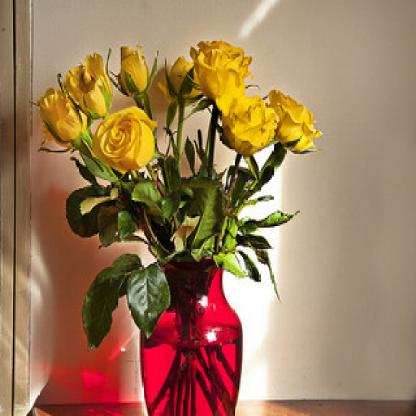ROSE-MAWAR: (30, 27, 327, 175)
